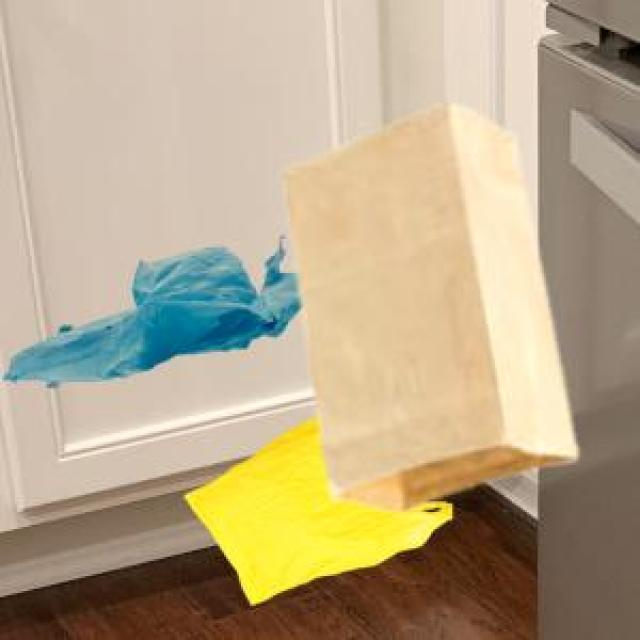paper: (280, 100, 572, 506)
